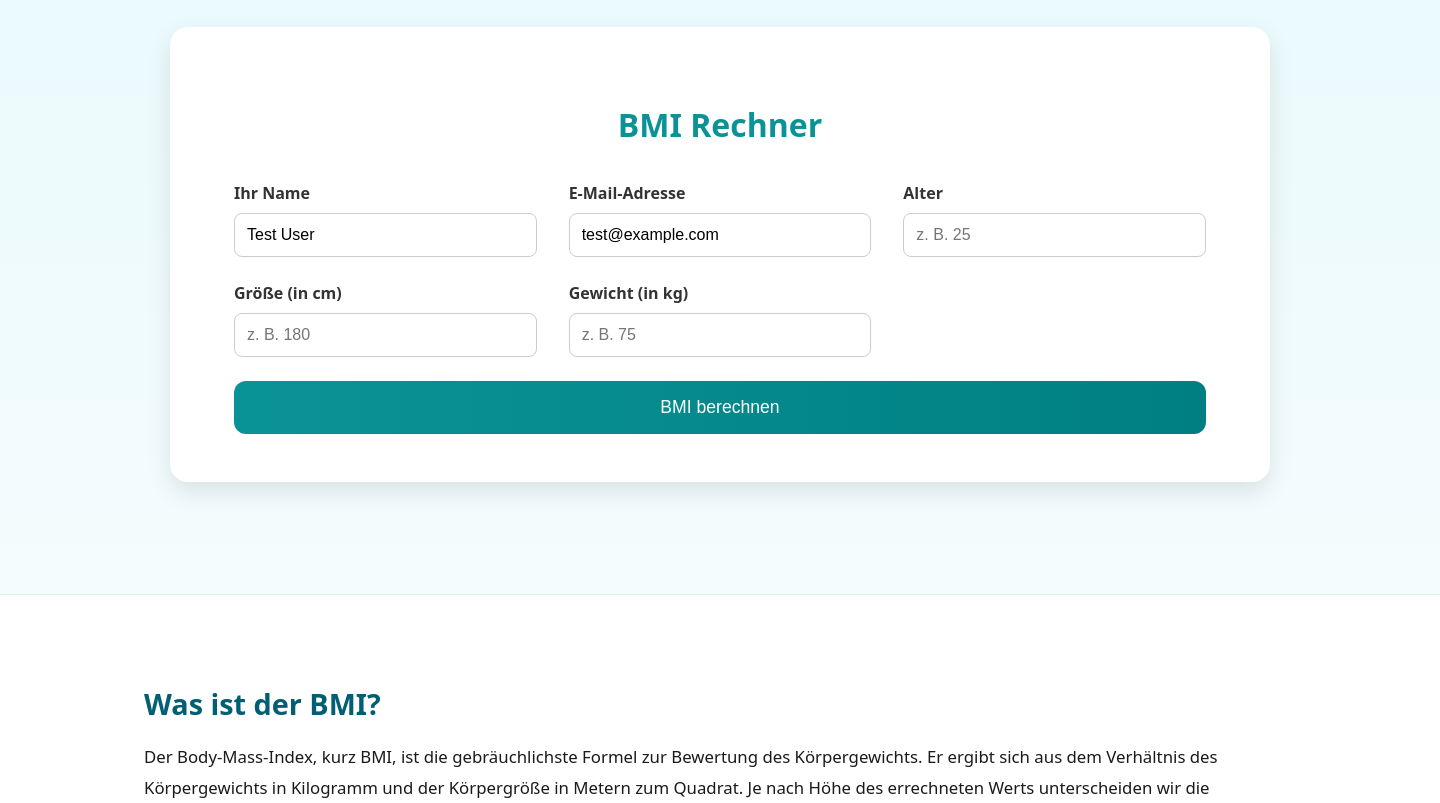
BmiCalculator › displays error message on API failure
(page scrolled)
Type "25" into the number field with placeholder "z. B. 25".
click(1055, 235); type("25")  # box x1=903 y1=213 x2=1206 y2=257
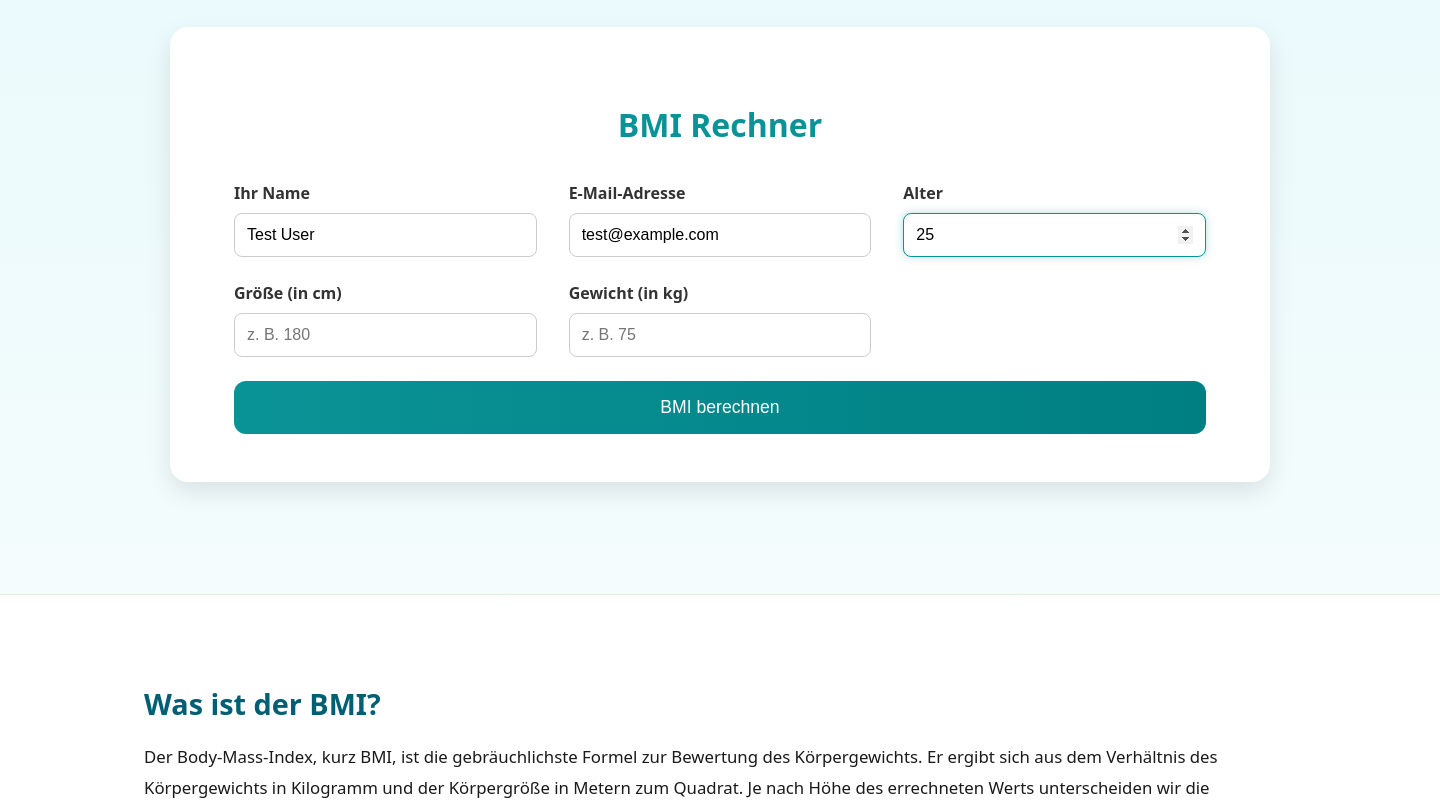
Type "180" into the number field with placeholder "z. B. 180".
click(385, 335); type("180")  # box x1=234 y1=313 x2=537 y2=357
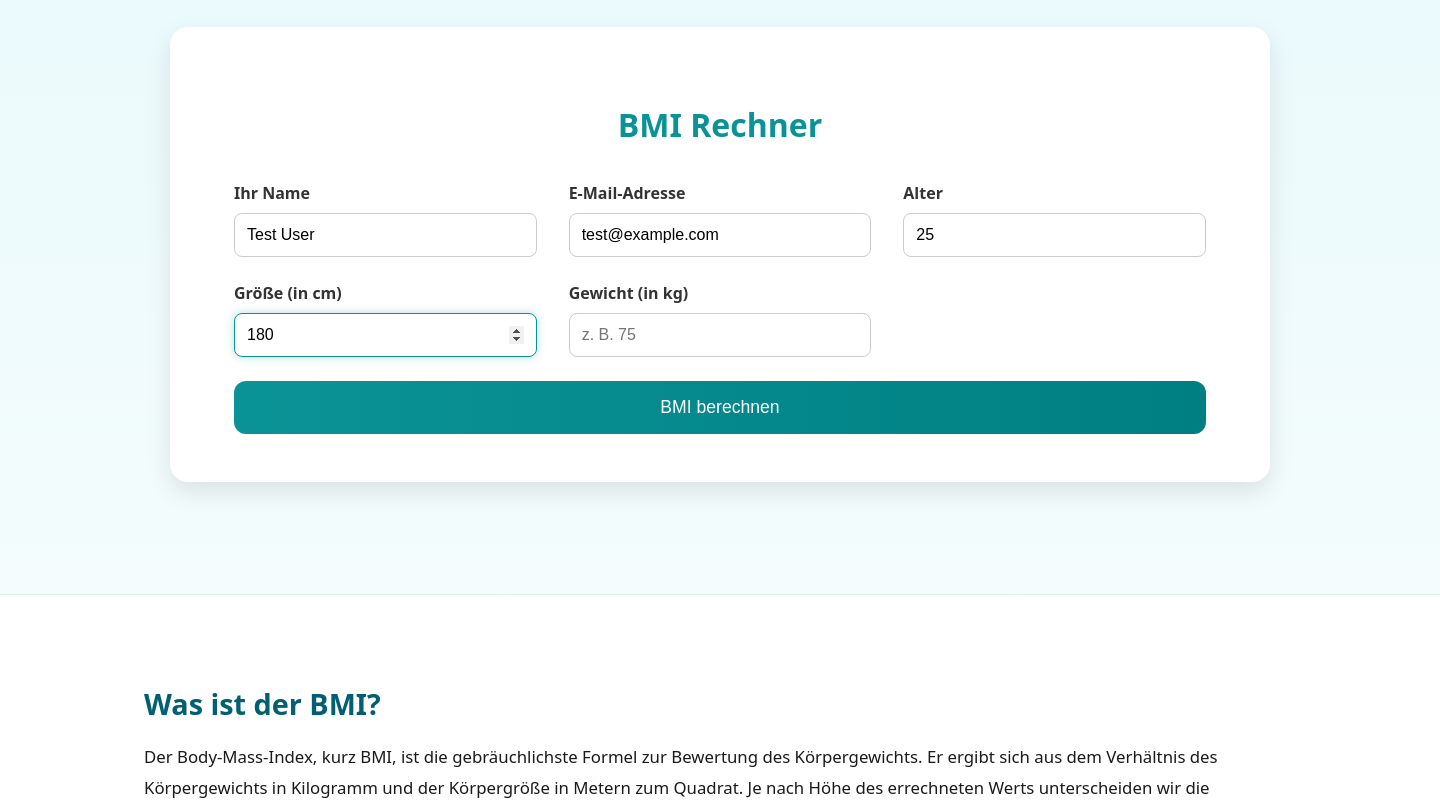
Type "75" into the number field with placeholder "z. B. 75".
click(720, 335); type("75")  # box x1=569 y1=313 x2=871 y2=357
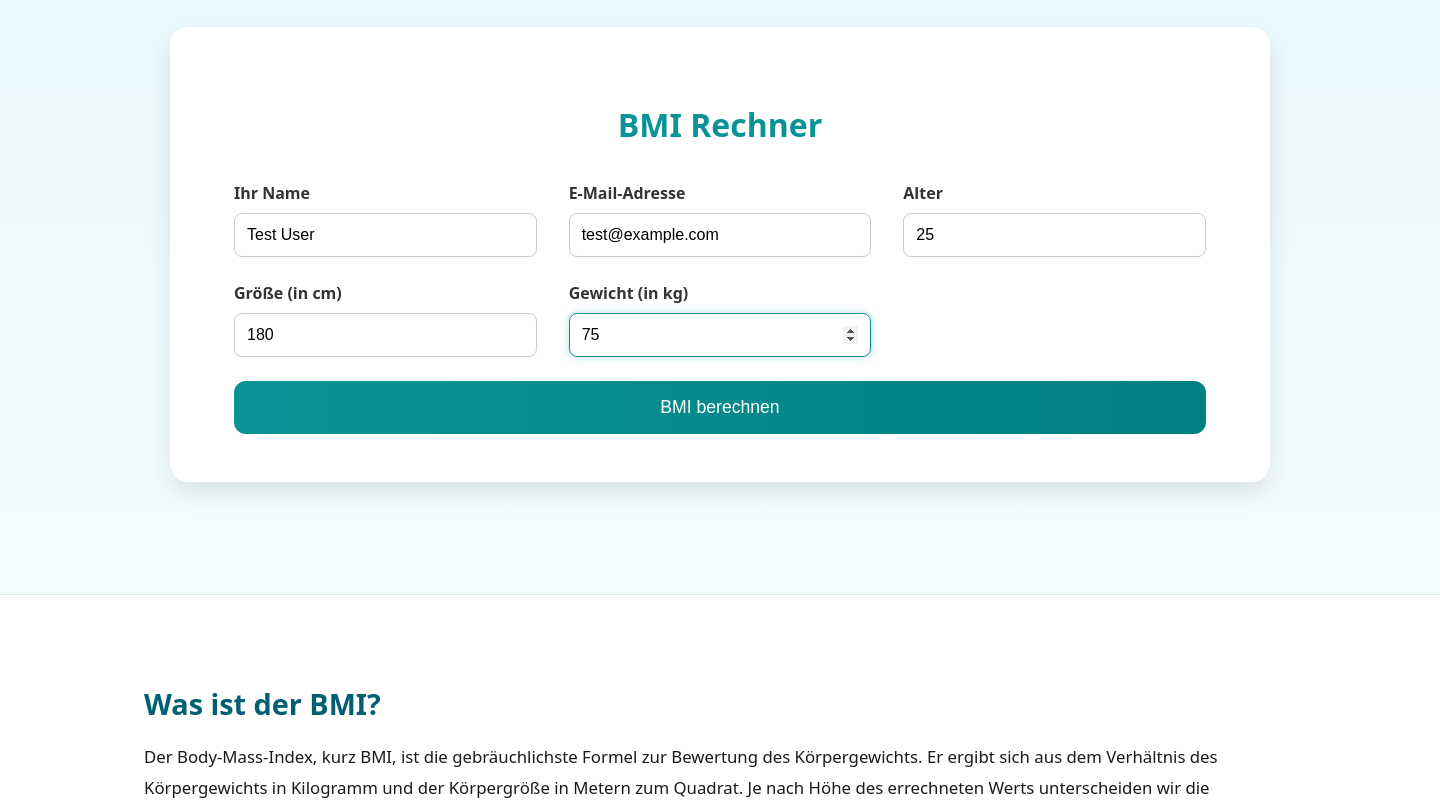
Click the button "BMI berechnen".
click(720, 408)  # box x1=234 y1=381 x2=1206 y2=434
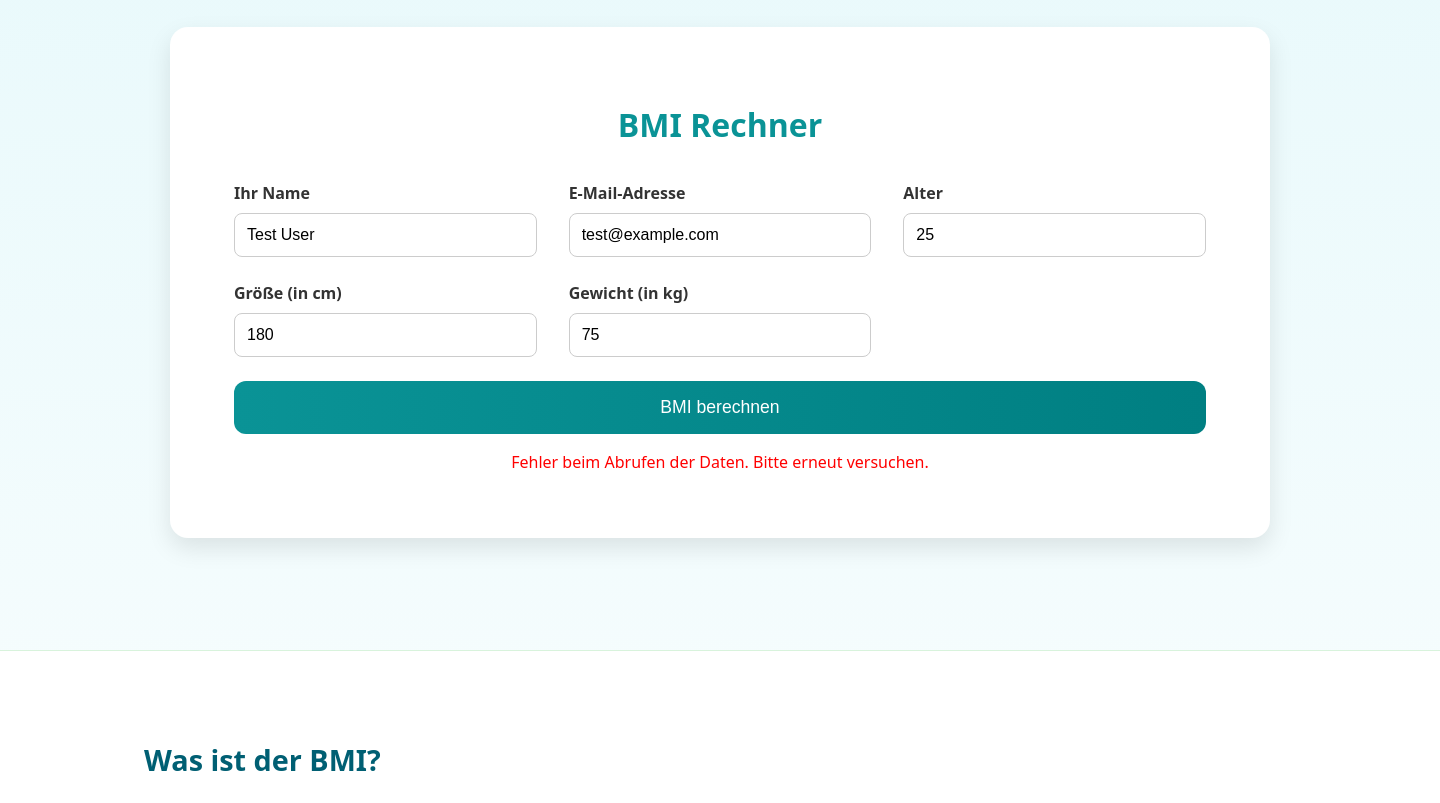
Expected: the text "Fehler beim Abrufen der Daten. Bitte erneut versuchen." is shown, x1=511 y1=451 x2=929 y2=473
